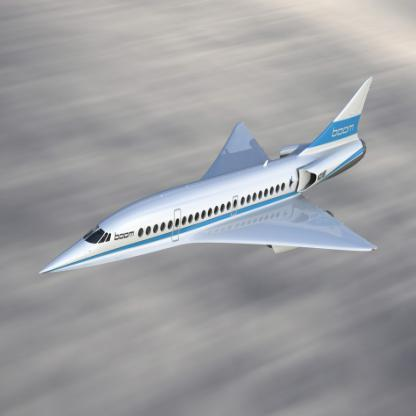CIV_Plane: (37, 72, 378, 280)
